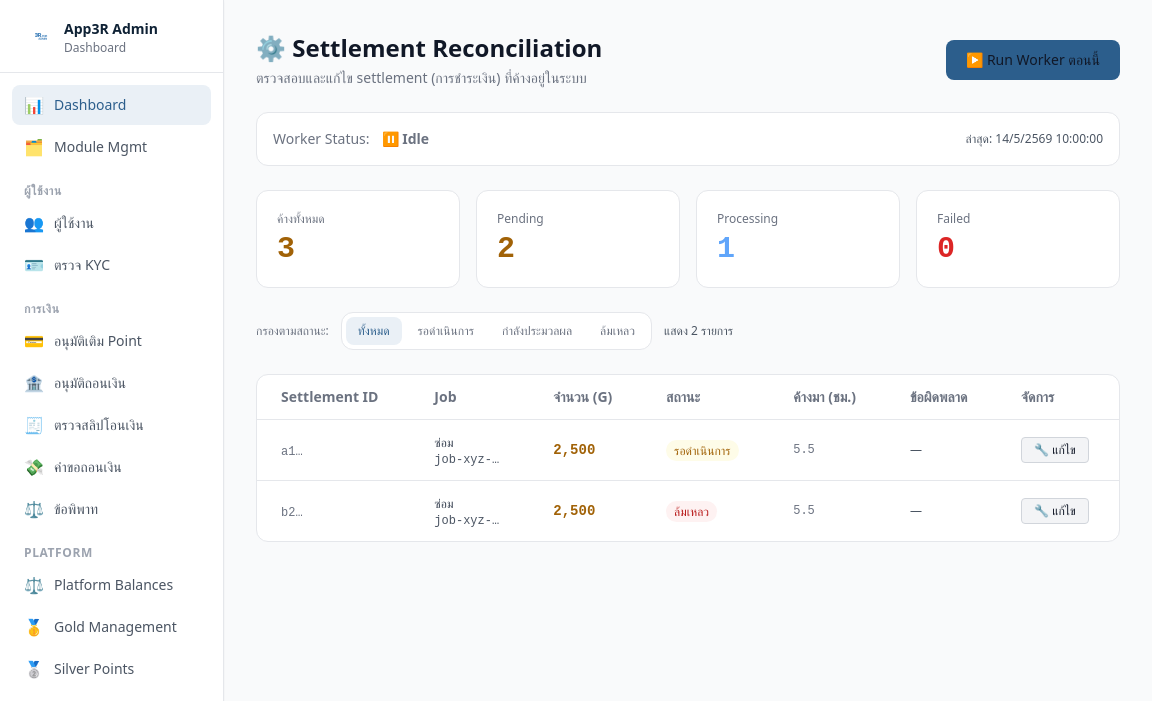
Test case: SettlementReconciliationPage — filter › กรอง filter "pending" แสดงเฉพาะ pending items
Expected: the button "ทั้งหมด" is shown, [346,317,402,345]
Click the button "รอดำเนินการ" at (446, 331), box [406,317,486,345]
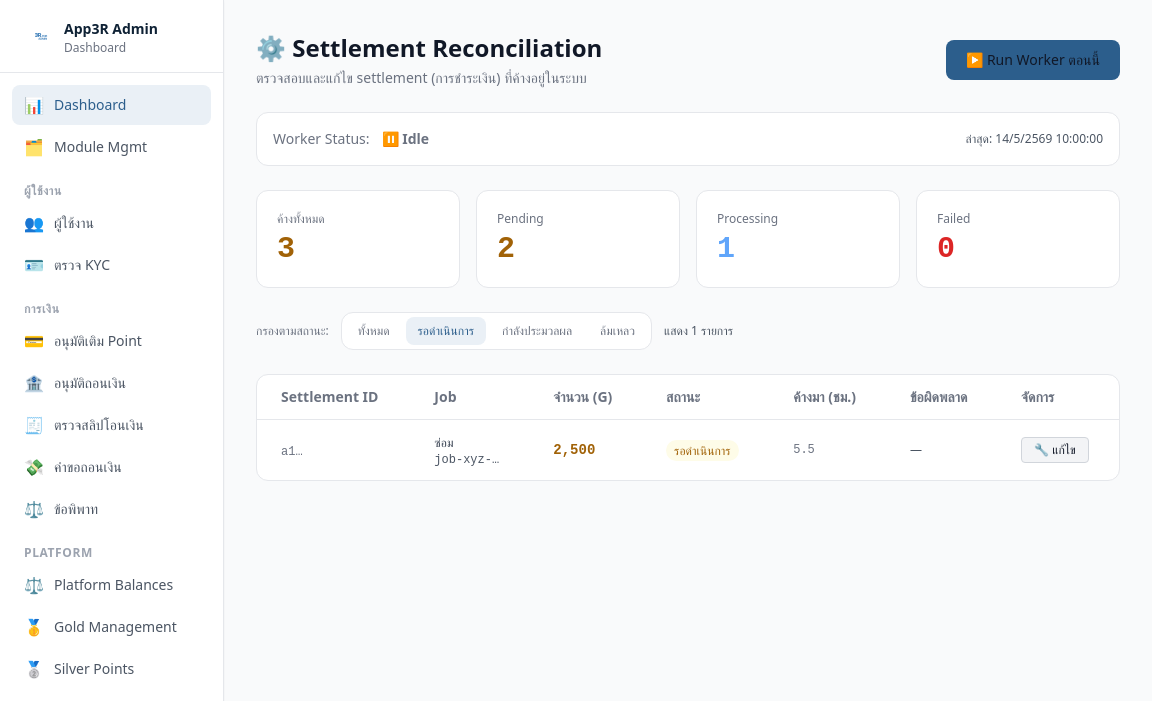
Expected: the text "แสดง 1 รายการ" is shown, [664,323,733,339]
